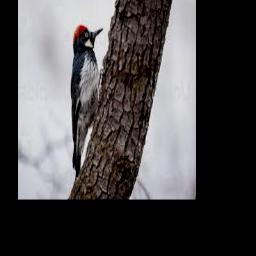Woodpecker: (71, 24, 104, 179)
